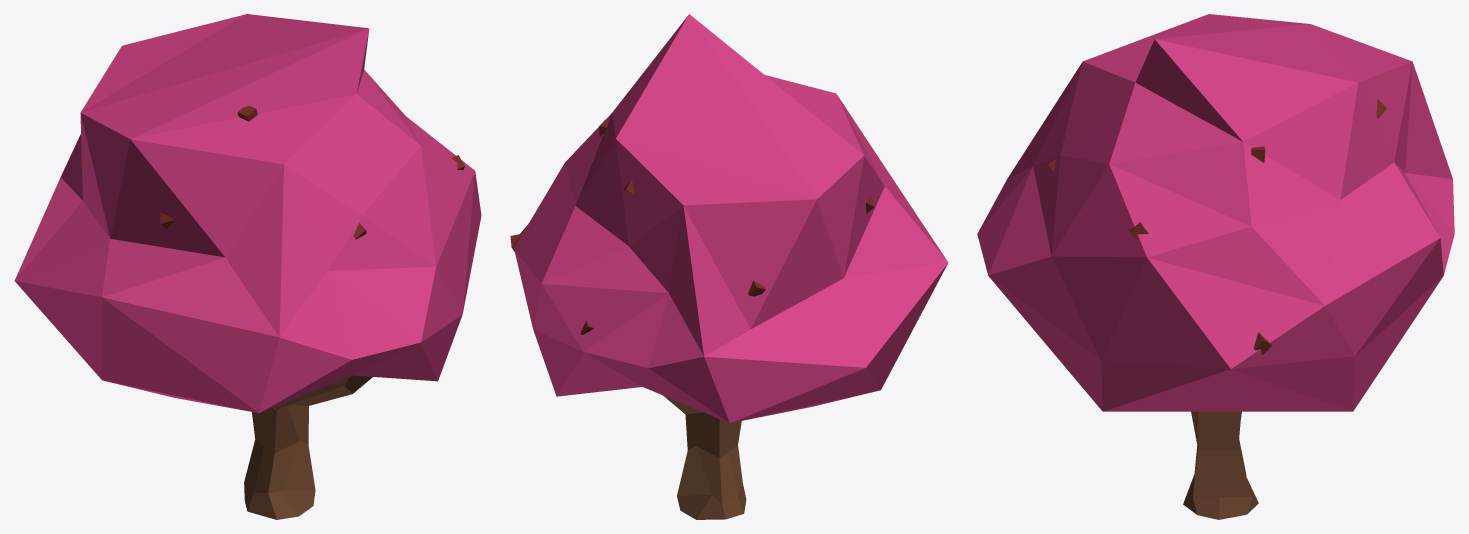
Rendered from Tree_26_Pink.fbx.
3 renders of one model, left to right at view 1: azimuth 30°, elevation 25°; view 2: azimuth 150°, elevation 25°; view 3: azimuth 270°, elevation 25°, orthographic. The views are drawn at different scales.
Parts seen in each view (by area): view 1: Tree_26_Pink_Part_1, Tree_26_Pink_Part_2, Tree_26_Pink_Part_3; view 2: Tree_26_Pink_Part_1, Tree_26_Pink_Part_2, Tree_26_Pink_Part_3; view 3: Tree_26_Pink_Part_1, Tree_26_Pink_Part_2, Tree_26_Pink_Part_3.
Boxes of the visible parts, x1,y1,x2,y2 form: Tree_26_Pink_Part_1: (14, 14, 481, 413); Tree_26_Pink_Part_2: (244, 375, 372, 519); Tree_26_Pink_Part_3: (80, 105, 464, 239); Tree_26_Pink_Part_1: (513, 14, 948, 423); Tree_26_Pink_Part_2: (663, 395, 746, 519); Tree_26_Pink_Part_3: (510, 101, 874, 334); Tree_26_Pink_Part_1: (977, 14, 1454, 411); Tree_26_Pink_Part_2: (1183, 411, 1258, 519); Tree_26_Pink_Part_3: (1048, 99, 1441, 354).
Size of the model in its own units: 717 by 789 by 692.
